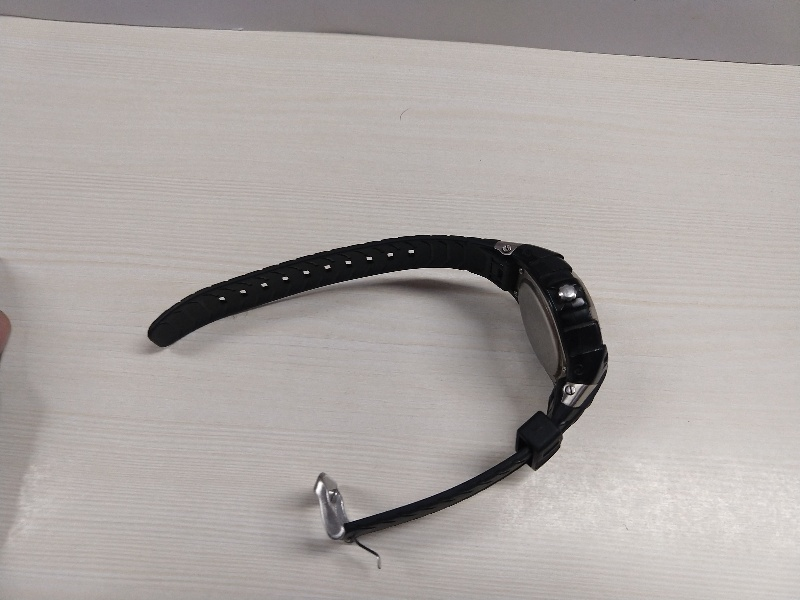watch: (128, 227, 612, 576)
